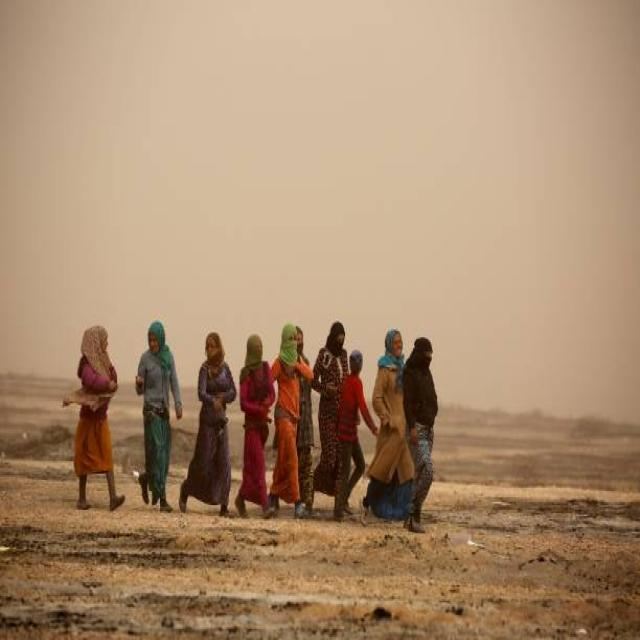civilian: (63, 326, 124, 508), (180, 333, 235, 515), (363, 329, 414, 521), (135, 322, 181, 510), (268, 323, 312, 516), (334, 350, 378, 519), (235, 334, 274, 516), (404, 339, 437, 530), (312, 322, 348, 497), (296, 380, 313, 515), (298, 326, 308, 364)
